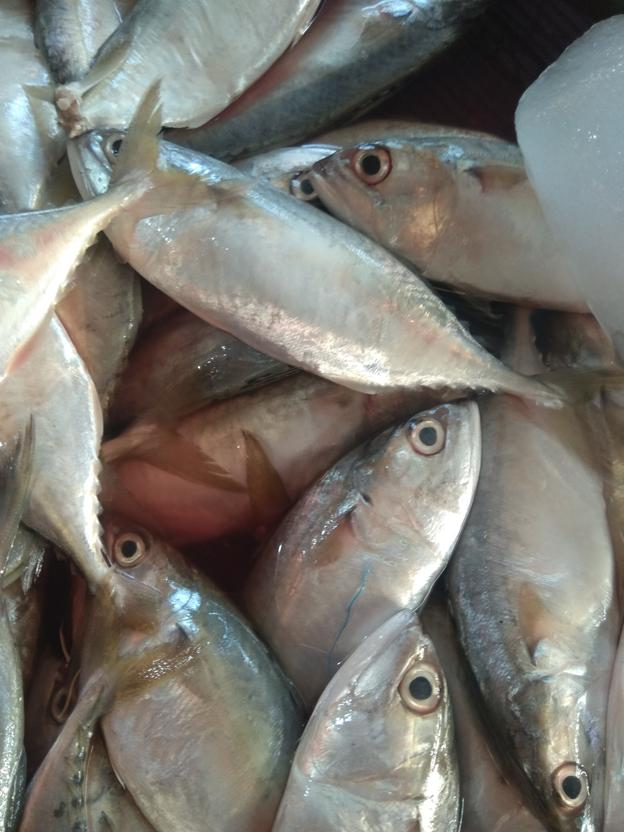Fish head: (292, 608, 459, 802), (54, 511, 216, 675), (350, 400, 483, 555), (312, 120, 459, 244), (507, 673, 613, 829), (67, 129, 203, 208)
Fish tail: (103, 78, 232, 221), (124, 365, 254, 500), (74, 572, 170, 696)
